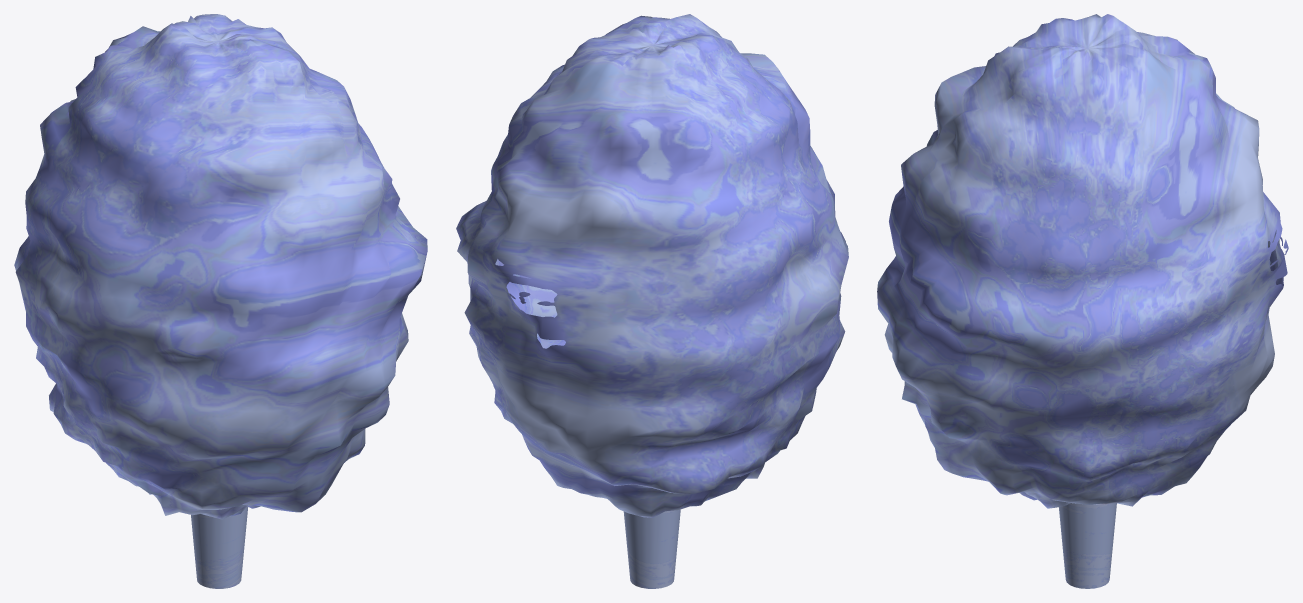
File: ArbolM3.fbx
3 renders of one model, left to right at view 1: azimuth 30°, elevation 25°; view 2: azimuth 150°, elevation 25°; view 3: azimuth 270°, elevation 25°, orthographic.
Visible parts, largest first — view 1: boom_005; view 2: boom_005; view 3: boom_005.
Boxes of the visible parts, box(x1,y1,x2,y2) form: boom_005: box(14, 14, 427, 588); boom_005: box(456, 14, 848, 588); boom_005: box(877, 14, 1288, 588).
Bounding box in the file's own units: 59.96 × 90.53 × 61.66.
Materials: 1 (1 with a texture image).
